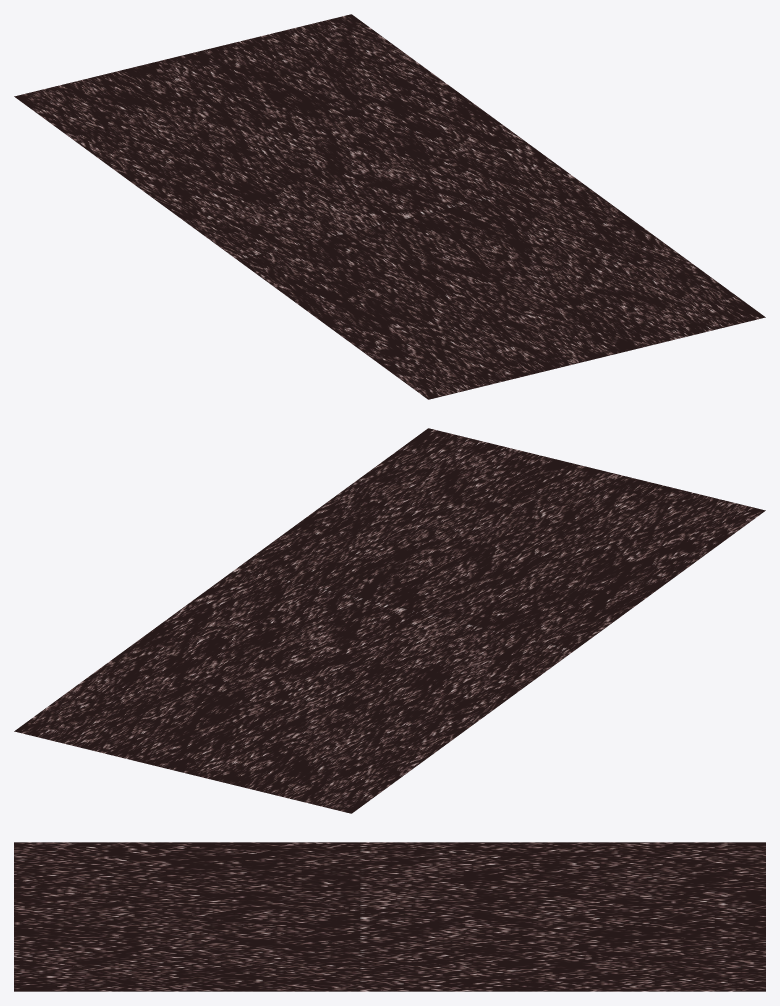
File: MudDecal2.FBX
3 renders of one model, top to bottom at view 1: azimuth 30°, elevation 25°; view 2: azimuth 150°, elevation 25°; view 3: azimuth 270°, elevation 25°, orthographic. The views are drawn at different scales.
Visible parts, largest first — view 1: Plane001; view 2: Plane001; view 3: Plane001.
Boxes of the visible parts, x1,y1,x2,y2 form: Plane001: (14, 14, 765, 399); Plane001: (14, 428, 765, 813); Plane001: (14, 842, 765, 991).
Bounding box in the file's own units: 81.76 × 1.06e-14 × 174.
Materials: 1 (1 with a texture image).
